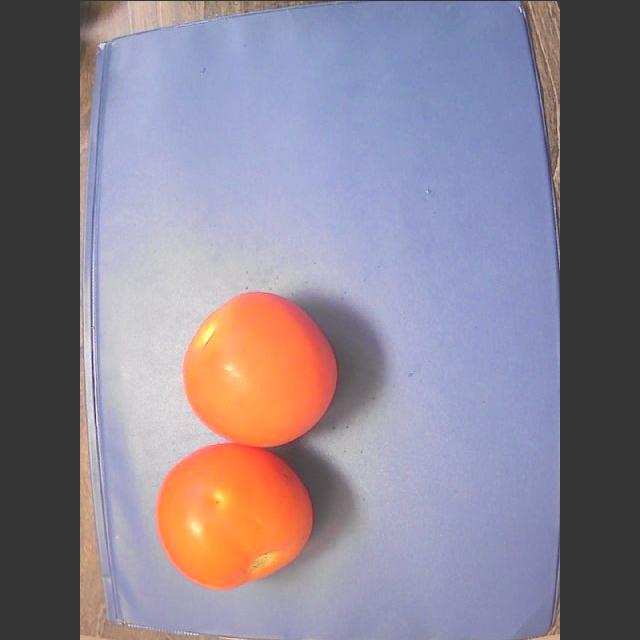tomate: (183, 292, 336, 445), (156, 444, 312, 589)
